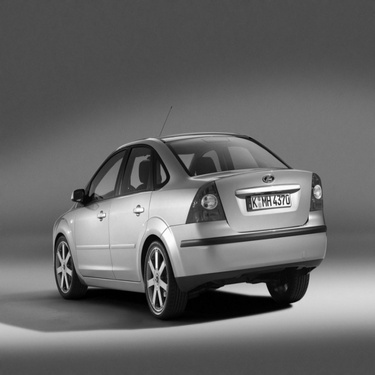car: (31, 119, 336, 331)
